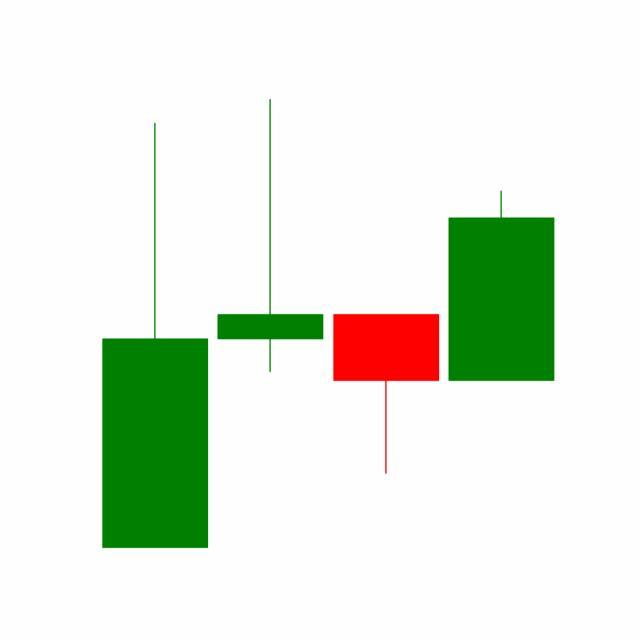Hammer: (329, 312, 445, 477)
